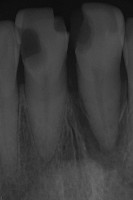Furcation Involvement: (68, 79, 133, 188)
